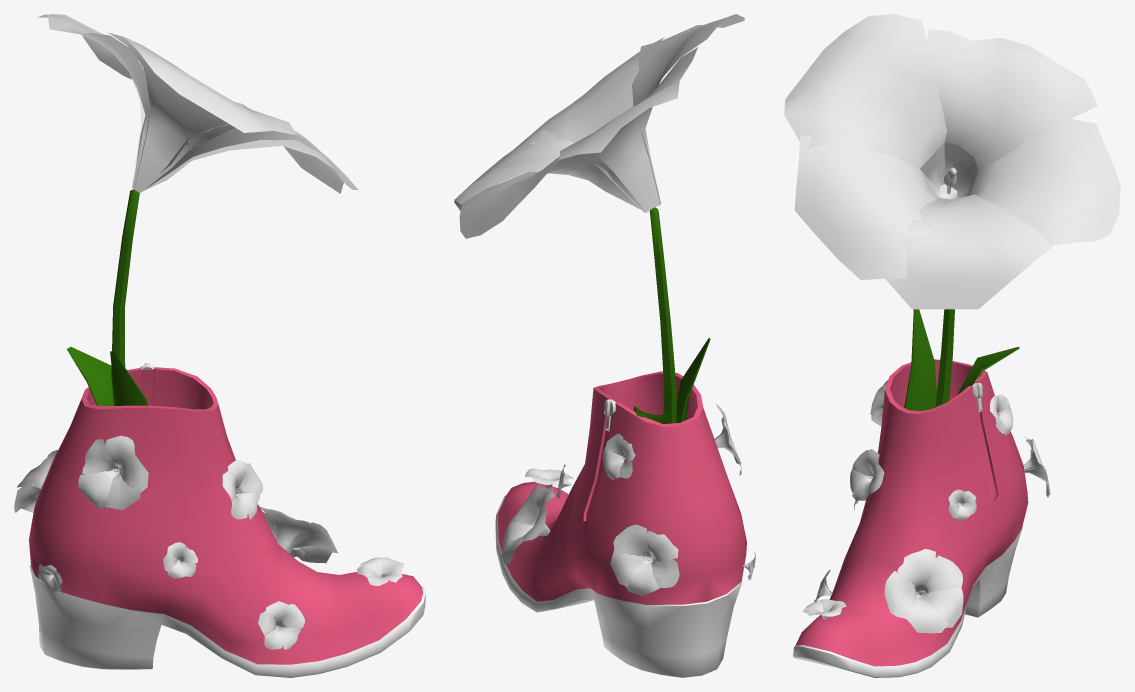
The model's file is Flower_Boot.fbx.
3 views of the same model, side by side, from view 1: azimuth 30°, elevation 25°; view 2: azimuth 150°, elevation 25°; view 3: azimuth 270°, elevation 25° (orthographic). The views are drawn at different scales.
Parts seen in each view (by area): view 1: Flower_Boot; view 2: Flower_Boot; view 3: Flower_Boot.
Boxes of the visible parts, x1,y1,x2,y2 form: Flower_Boot: [14, 14, 425, 677]; Flower_Boot: [454, 14, 755, 677]; Flower_Boot: [784, 14, 1120, 677].
Size of the model in its own units: 66.45 by 126 by 67.46.
